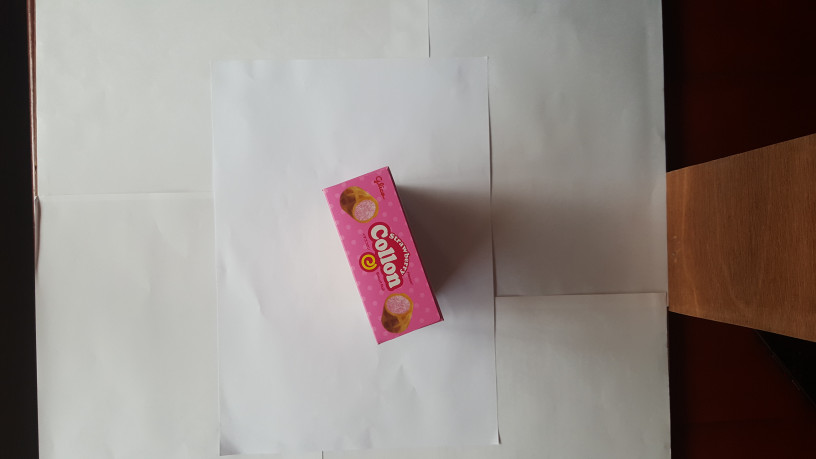collon-strawberry: (321, 165, 446, 346)
